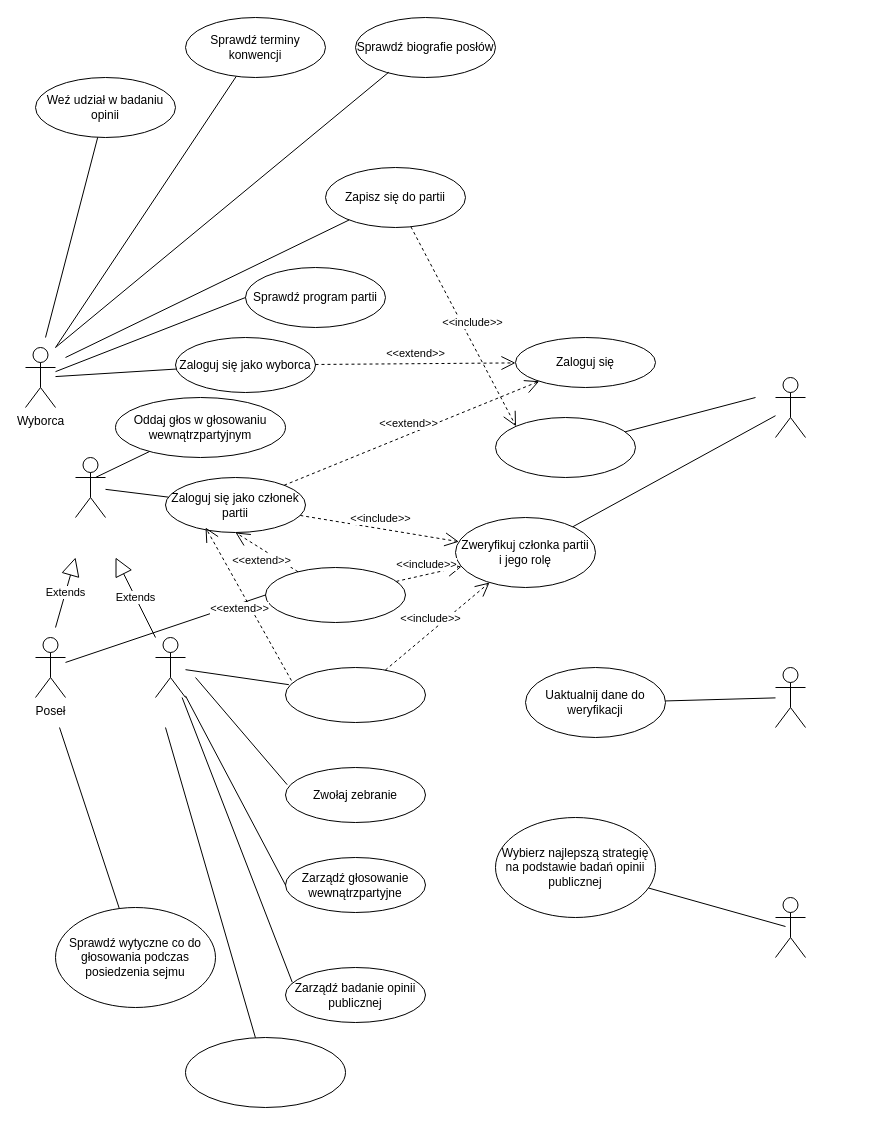
The diagram is 880 pixels wide and 1125 high, and some of its shapes have lost their labels. The centre of each missing label's shape, as x and y in pixels:
"Administrator" belongs at pixel 790 697.
"Członek partii" belongs at pixel 90 487.
"Członek prezydium" belongs at pixel 170 667.
"Moduł sztucznej inteligencji" belongs at pixel 790 927.
"Przygotuj wytyczne dla posłów odnośnie głosowań" belongs at pixel 265 1072.
"System weryfikacji" belongs at pixel 790 407.
"Zaloguj się jako członek prezydium" belongs at pixel 355 694.
"Zaloguj się jako poseł" belongs at pixel 335 594.
"Zweryfikuj kandydata na członka partii" belongs at pixel 565 447.
